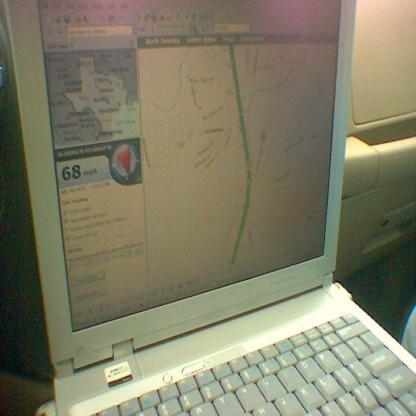board: (20, 5, 406, 416)
